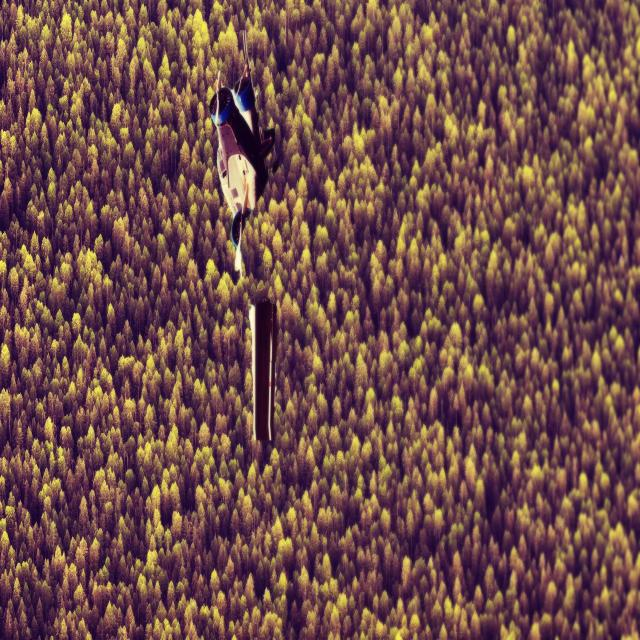airplane: (208, 29, 277, 444)
